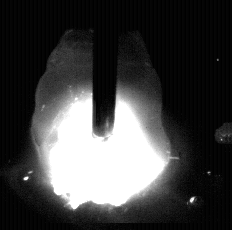arame: (93, 0, 117, 138)
poca: (31, 0, 171, 230)
